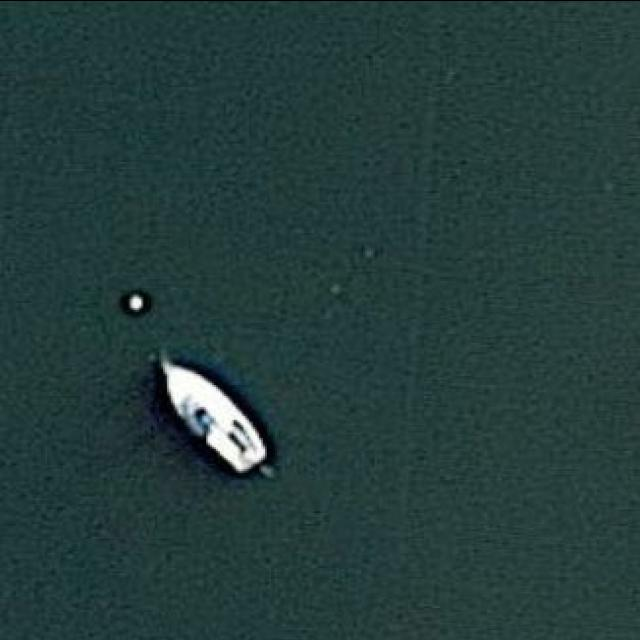ship: (147, 351, 269, 477)
